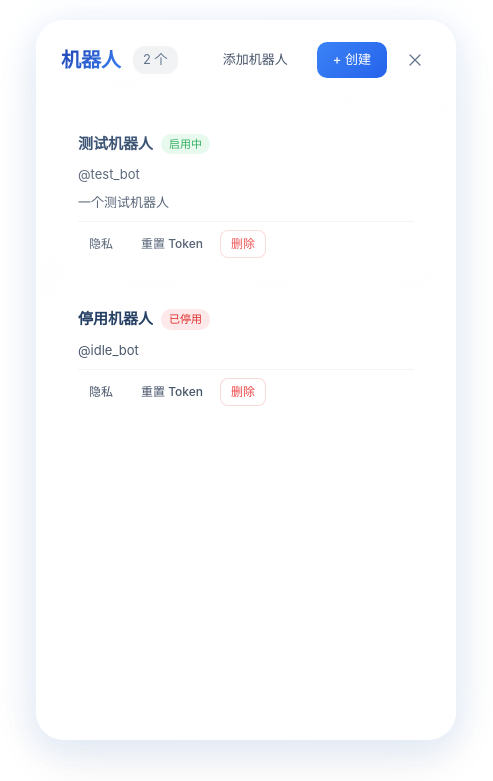
Test: BotsModal › 隐私设置 › 改 radio 到「仅自己」+ 取消可搜索 → 只传变化字段调 updateBot（不含 message_whitelist）
Expected: the heading "测试机器人" is shown, x1=78 y1=132 x2=153 y2=155
// 第一个 bot（bot_1111 / everyone / discoverable）的「隐私」按钮
Click the button "隐私" below "一个测试机器人".
click(101, 244)  # box x1=78 y1=230 x2=124 y2=258
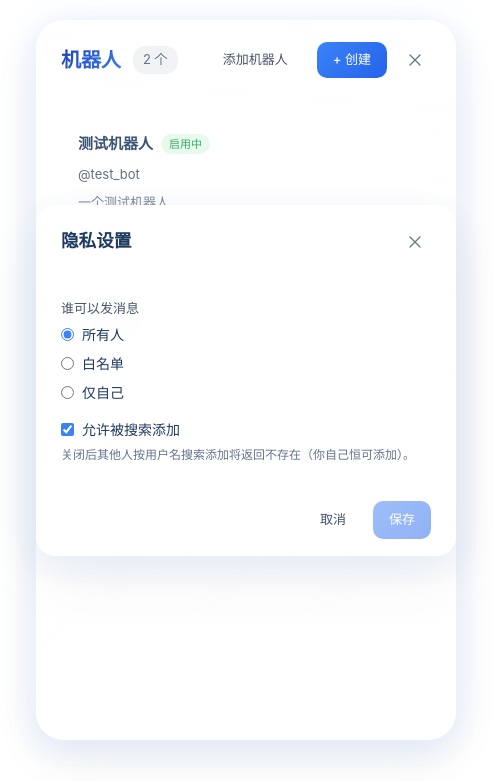
Expected: the heading "隐私设置" is shown, x1=61 y1=228 x2=131 y2=255
Expected: the radio button labelled "所有人" is checked, x1=61 y1=328 x2=74 y2=341
Expected: the checkbox labelled "允许被搜索添加" is checked, x1=61 y1=423 x2=74 y2=436
Click the radio button labelled "仅自己".
click(68, 392)  # box x1=61 y1=386 x2=74 y2=399
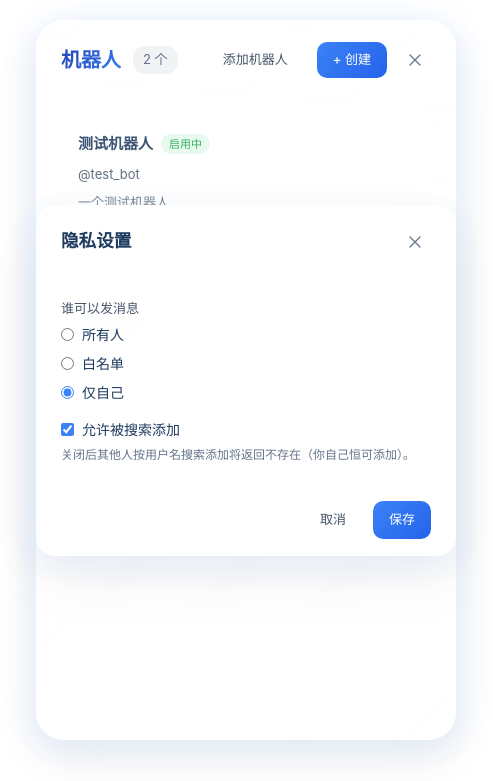
Click the checkbox labelled "允许被搜索添加".
click(68, 430)  # box x1=61 y1=423 x2=74 y2=436
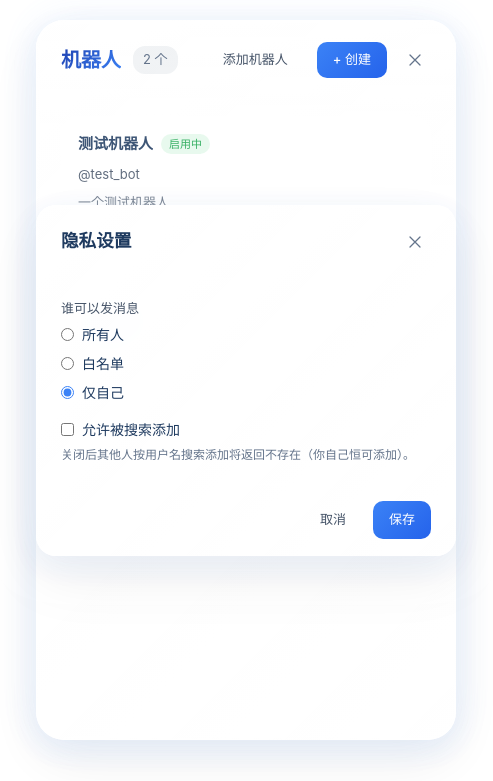
Click the button "保存".
click(402, 520)  # box x1=373 y1=501 x2=431 y2=538
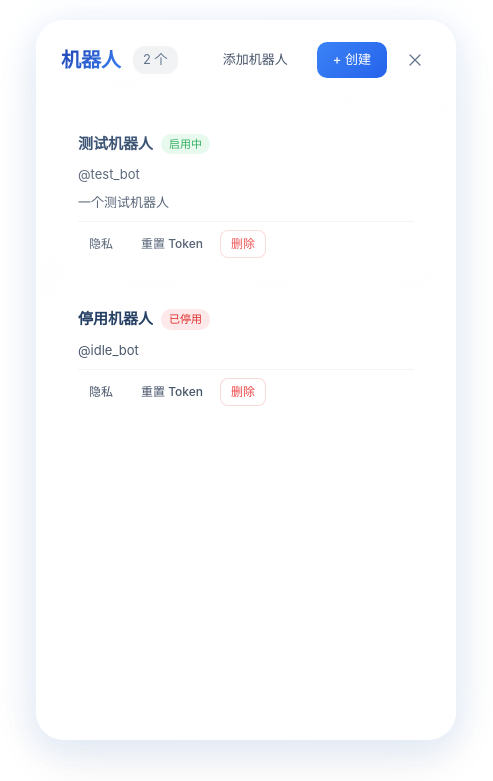
Expected: the heading "隐私设置" is gone
